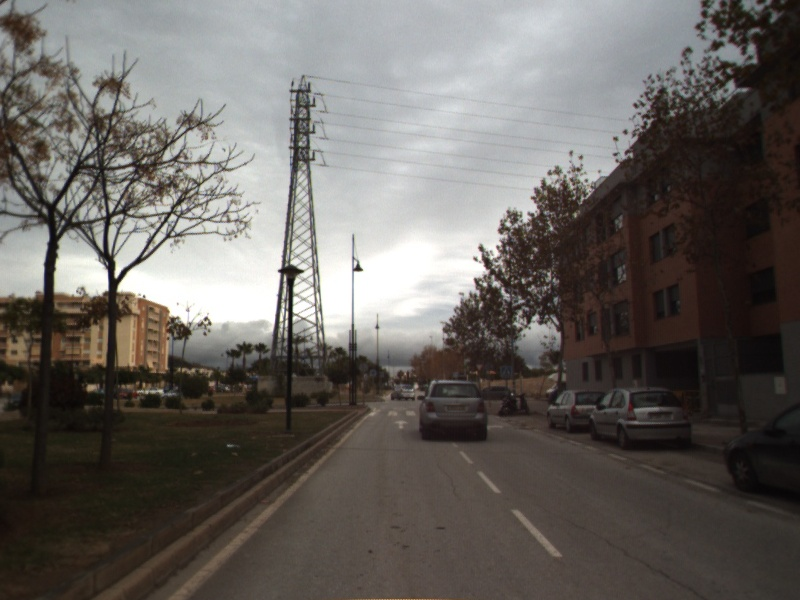STRAIGHT: (392, 418, 410, 431)
